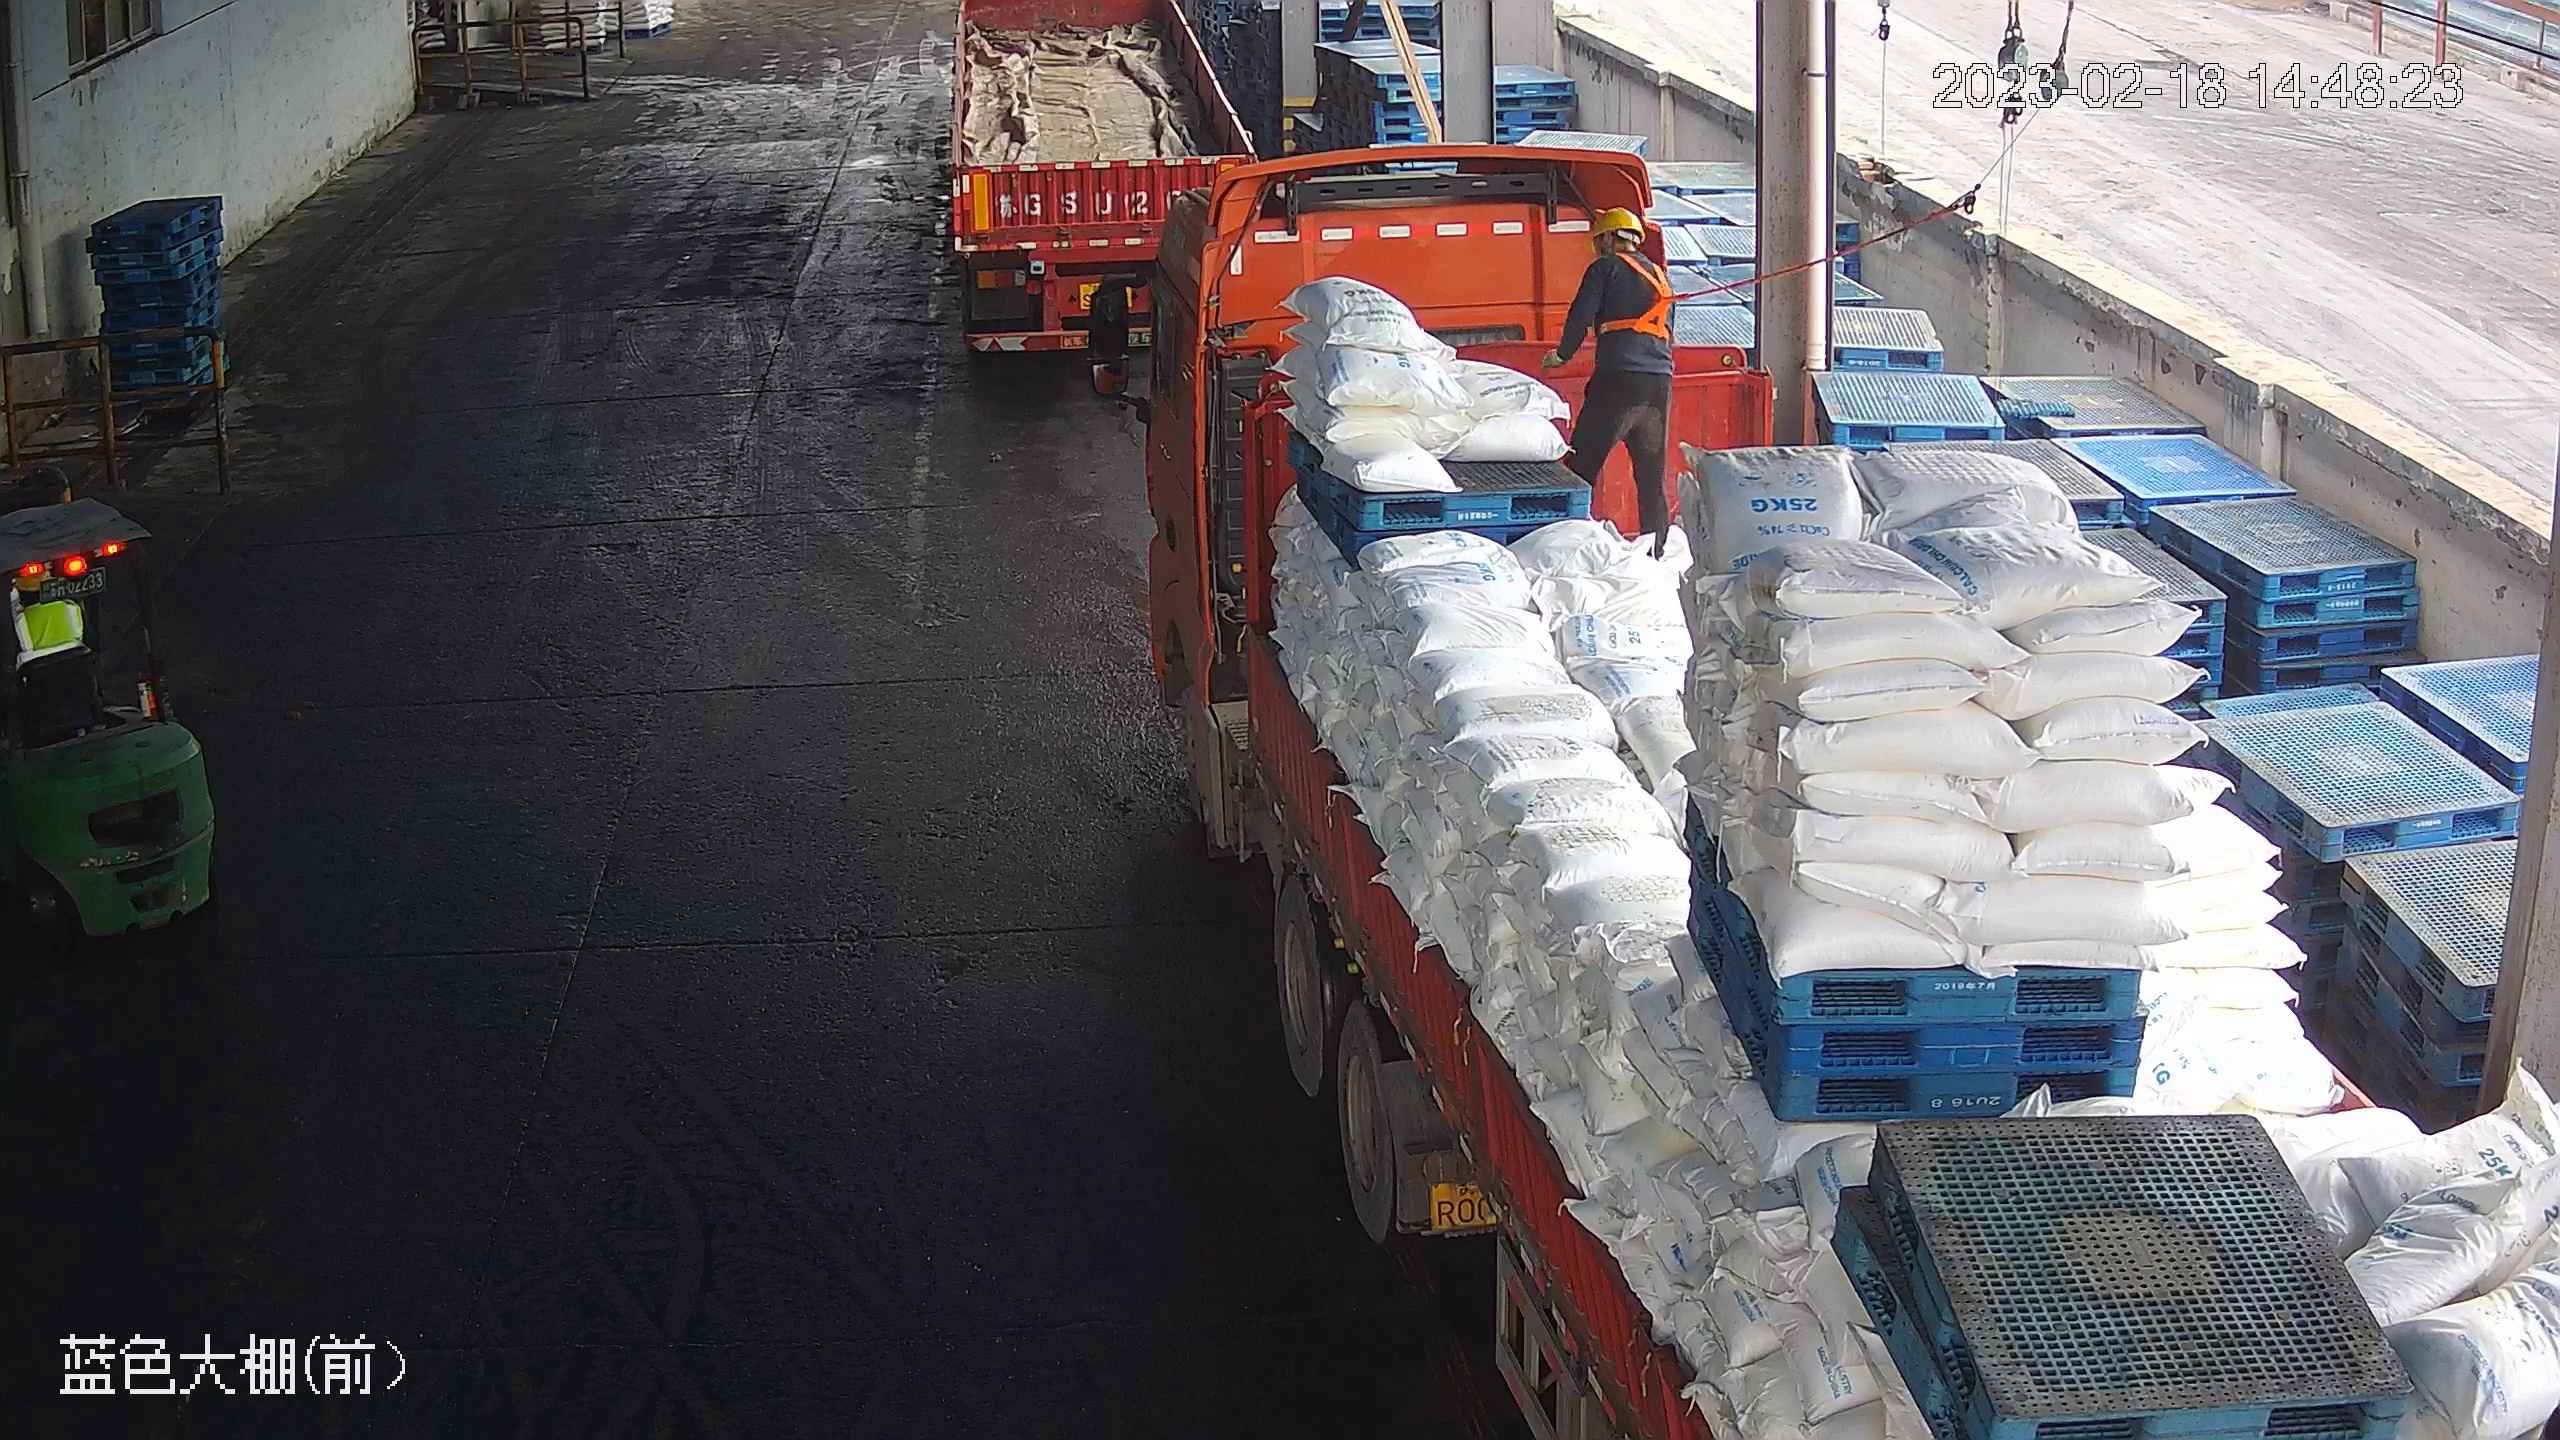belt: (1599, 251, 1678, 341)
head: (1575, 203, 1682, 299)
helmet: (1587, 203, 1642, 240)
people: (1548, 200, 1677, 556)
truck: (1085, 151, 2554, 1439), (922, 1, 1281, 351)
